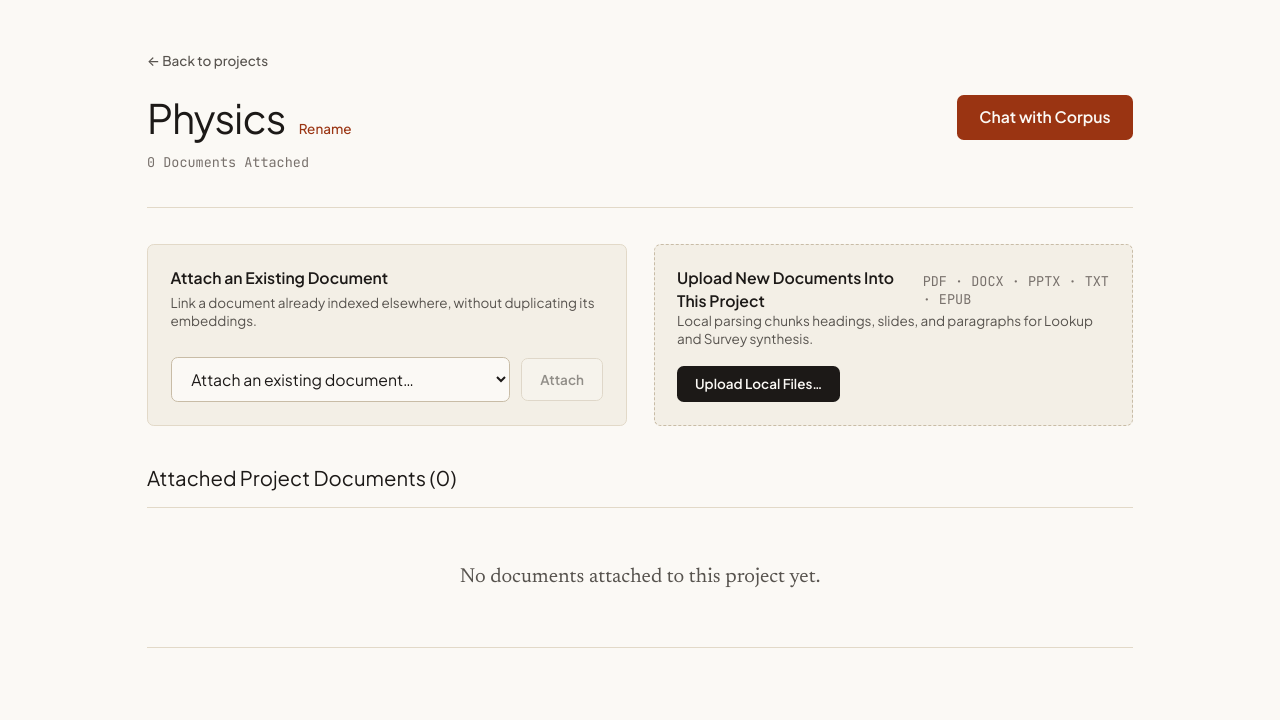
Test: ProjectDetailScreen › shows an error if attaching a document fails
Select "Thermodynamics" in the dropdown named "Attach an existing document": (340, 380) [170,357,510,402]
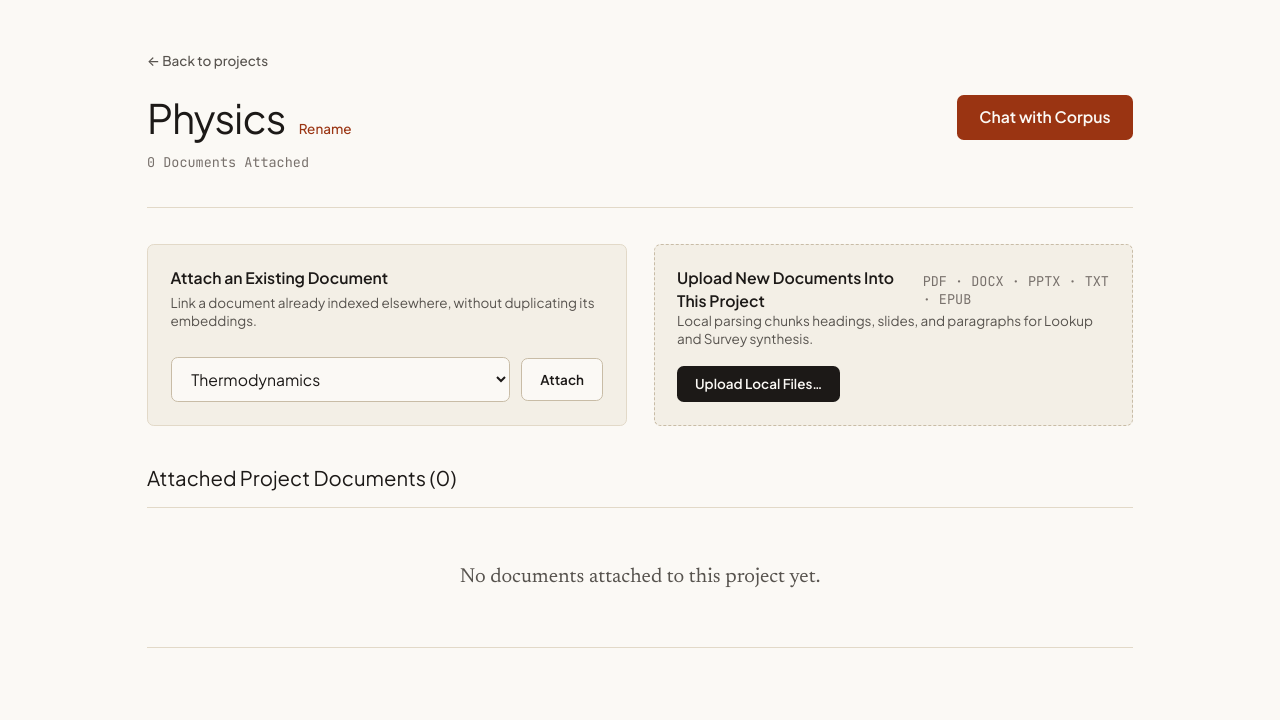
Click the button "Attach": (562, 380) [521,358,603,401]
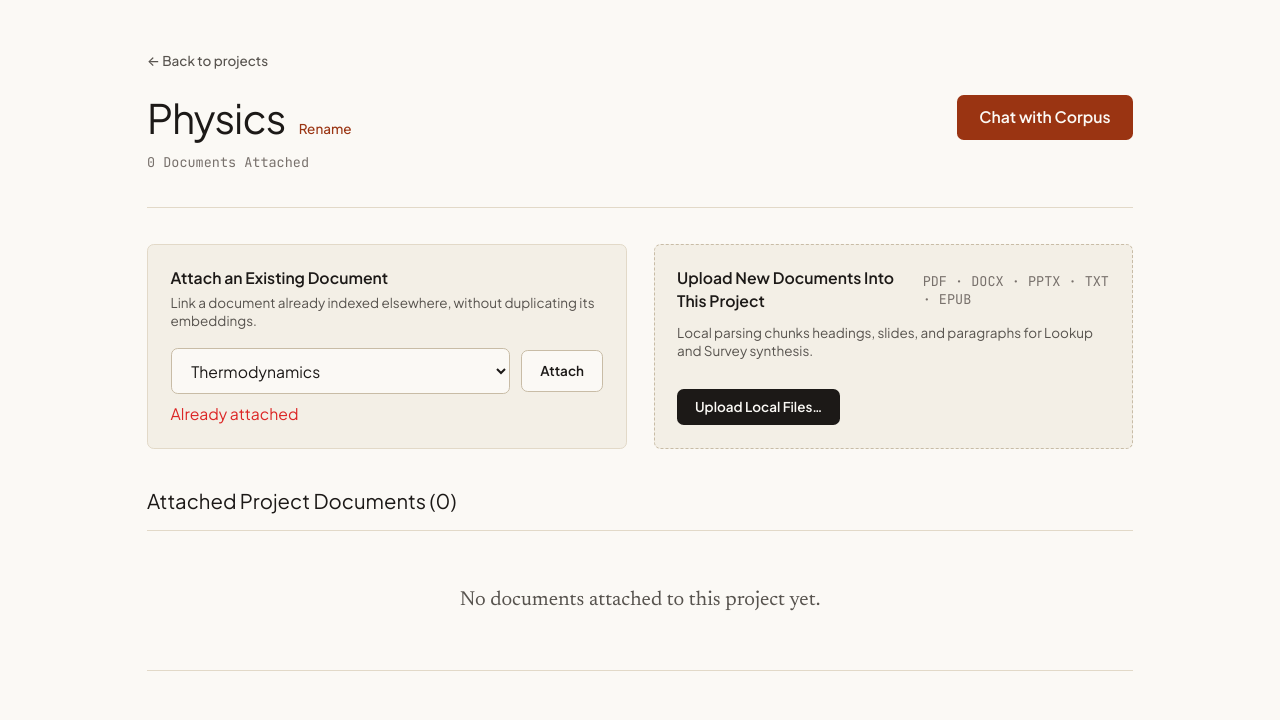
Expected: the text "Already attached" is shown, [170,404,298,423]
